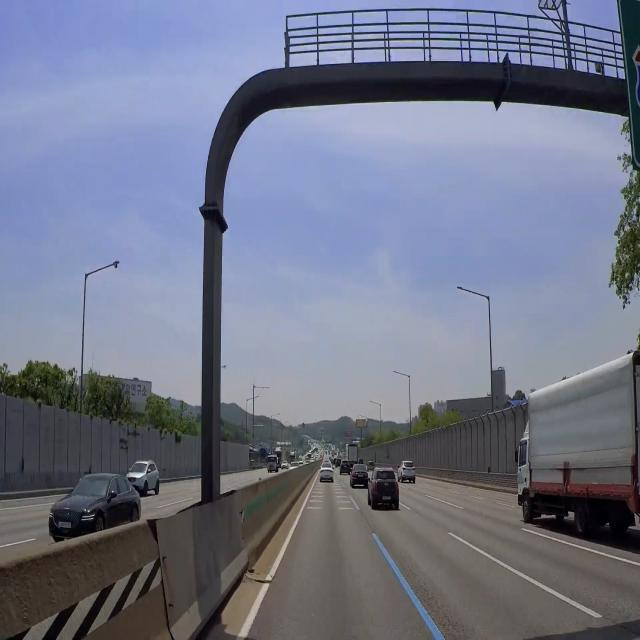car: (57, 521, 73, 532), (382, 494, 391, 503), (357, 473, 365, 478), (323, 474, 329, 480), (343, 464, 348, 470)
